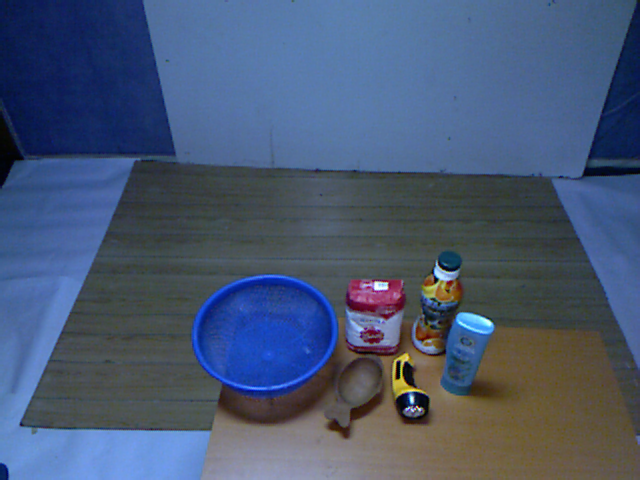balsamo: (437, 307, 498, 404)
colador: (190, 273, 341, 410)
harina: (338, 268, 410, 357)
linterna: (386, 351, 435, 426)
pescado: (325, 350, 388, 439)
yogurt: (409, 246, 470, 357)
